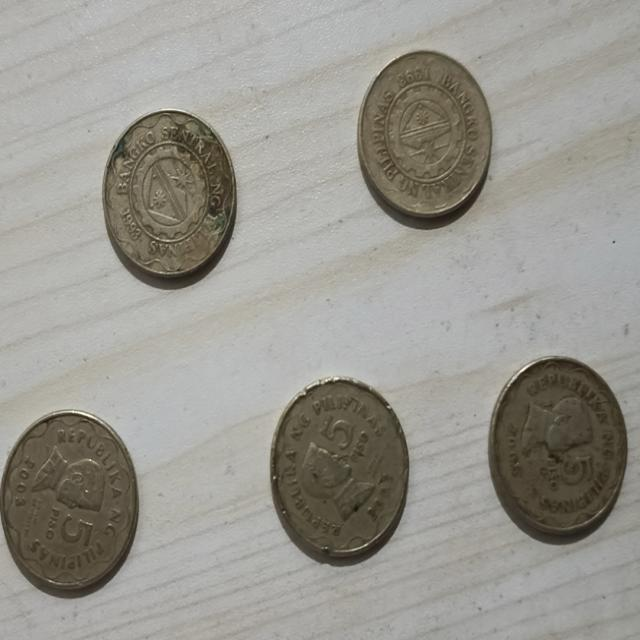5_peso: (0, 410, 138, 592), (489, 358, 625, 537), (271, 378, 408, 554), (102, 109, 236, 276), (359, 52, 491, 216)
